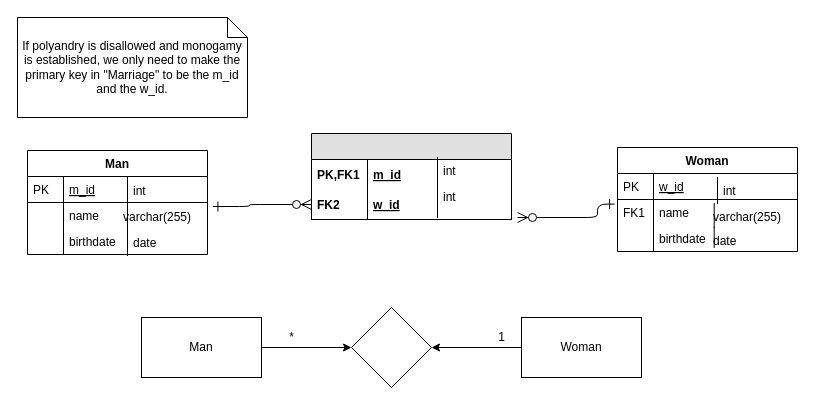
The diagram is 815 pixels wide and 405 high, and some of its shapes have lost their labels. The shapes that lost their labels are listed below. From the top down, each one's box as (x1, y1, x2, y2) in pixels, then its label:
(310, 132, 512, 220): Marriage
(350, 306, 432, 388): is married to
